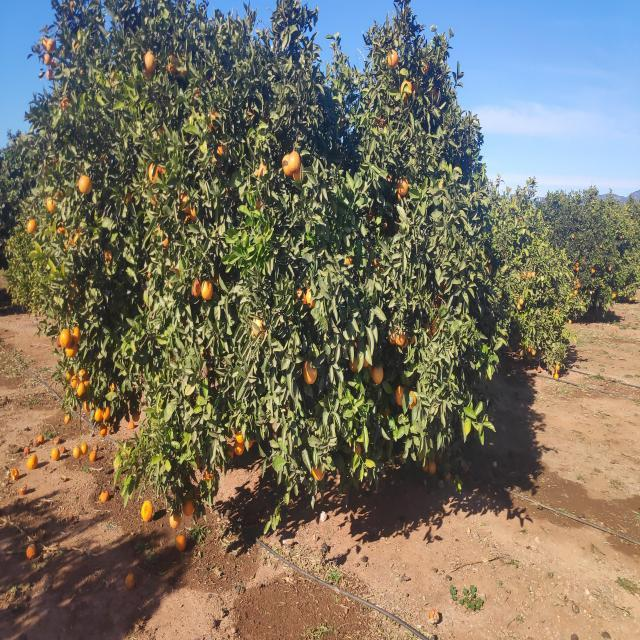Jeruk Sudah Matang: (212, 141, 226, 167), (303, 360, 317, 384), (252, 314, 266, 338), (78, 174, 92, 194), (148, 162, 160, 185), (142, 500, 154, 523), (180, 189, 191, 214), (208, 105, 218, 132), (166, 53, 178, 75), (306, 284, 316, 310), (282, 154, 293, 177), (312, 463, 326, 481), (289, 151, 301, 172), (292, 164, 306, 182), (182, 497, 195, 516), (401, 80, 412, 102), (201, 280, 213, 300), (60, 328, 72, 348), (203, 468, 216, 486), (387, 49, 399, 68), (146, 50, 156, 72), (177, 56, 188, 76), (170, 510, 182, 528), (70, 326, 81, 344), (125, 572, 136, 590), (176, 534, 187, 552), (65, 342, 78, 357), (76, 368, 88, 384), (192, 278, 202, 297), (398, 177, 408, 196), (432, 319, 443, 336), (47, 196, 57, 214), (396, 328, 406, 346), (373, 366, 383, 384), (408, 390, 417, 410), (27, 454, 38, 470), (295, 290, 306, 306), (190, 484, 200, 501), (234, 440, 245, 455), (396, 386, 404, 406), (235, 428, 244, 444), (388, 328, 396, 346), (424, 323, 432, 341), (26, 544, 36, 558), (61, 96, 70, 111), (102, 405, 111, 420), (95, 407, 104, 422), (258, 163, 267, 178), (75, 233, 86, 245), (76, 383, 86, 396), (46, 38, 55, 52), (28, 220, 37, 234), (51, 447, 60, 461), (255, 197, 264, 211), (70, 376, 80, 388), (350, 357, 358, 372), (125, 191, 132, 208), (190, 202, 197, 218), (105, 250, 112, 266), (73, 446, 81, 460), (80, 442, 88, 456), (43, 54, 52, 66), (196, 451, 202, 469), (101, 489, 109, 502), (353, 442, 361, 455), (428, 461, 436, 474), (158, 166, 167, 177), (150, 192, 157, 206), (46, 68, 54, 80), (66, 368, 74, 380), (84, 400, 92, 412), (90, 450, 98, 462), (132, 410, 140, 422), (411, 83, 419, 95), (50, 60, 59, 70), (82, 378, 91, 388), (42, 36, 48, 50), (163, 236, 169, 248), (248, 436, 254, 448), (422, 460, 428, 472), (362, 358, 369, 368), (73, 40, 79, 50), (423, 62, 429, 72), (345, 257, 352, 265), (110, 382, 115, 392), (64, 416, 70, 424), (517, 302, 522, 310), (488, 264, 493, 272), (522, 272, 526, 280), (528, 272, 532, 280), (532, 270, 536, 278), (554, 373, 559, 379), (532, 348, 536, 355), (484, 253, 488, 260), (70, 1, 74, 7), (556, 364, 560, 370), (527, 346, 531, 352), (520, 350, 524, 356), (520, 298, 524, 304), (538, 367, 542, 372), (592, 268, 596, 273), (576, 278, 579, 284), (509, 348, 513, 352), (568, 320, 572, 324), (555, 310, 559, 314), (574, 290, 578, 294), (577, 284, 581, 288), (576, 267, 580, 271), (608, 266, 612, 270), (599, 245, 603, 249), (576, 262, 579, 267), (570, 292, 573, 296), (613, 294, 616, 298), (574, 280, 576, 284), (574, 266, 576, 270), (572, 234, 574, 238), (636, 297, 638, 301), (620, 236, 622, 240), (630, 257, 632, 261), (630, 297, 632, 300), (616, 230, 618, 233)
